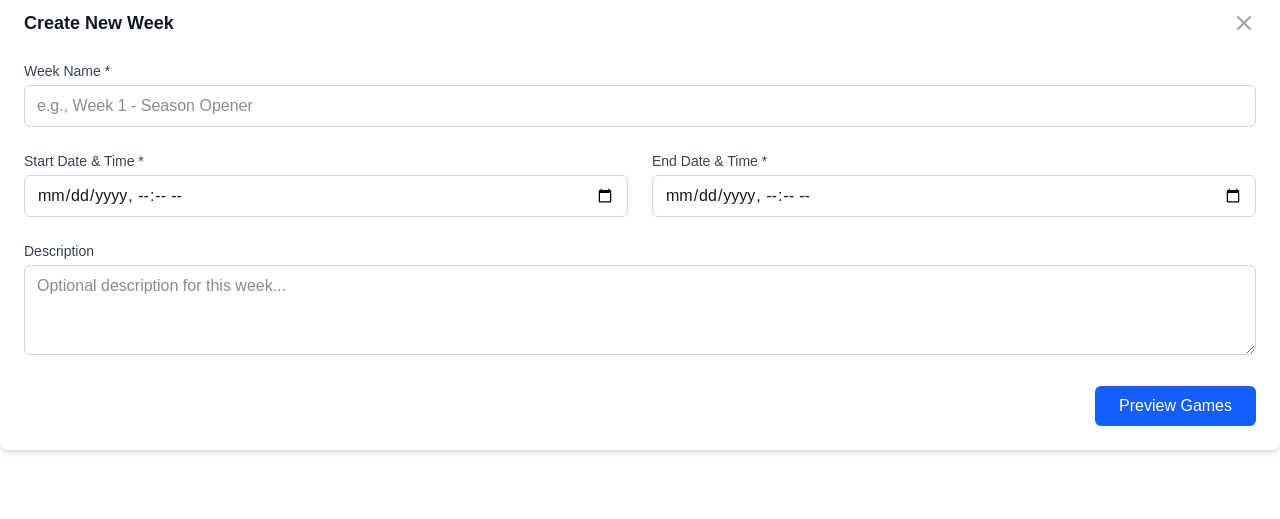
Test case: WeekCreationWizard › Form Step › should validate required fields
Click the button "Preview Games" at (1176, 406), box [1095,386,1256,426]
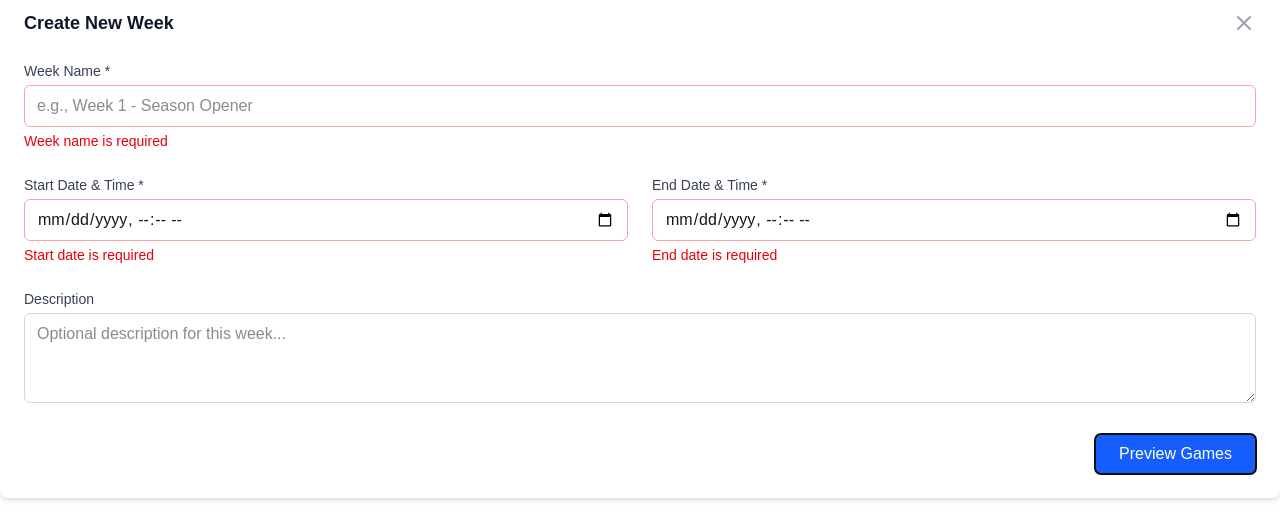
Check: the text "Week name is required" is shown, box [24,133,168,149]
Check: the text "Start date is required" is shown, box [24,247,154,263]
Check: the text "End date is required" is shown, box [652,247,777,263]
